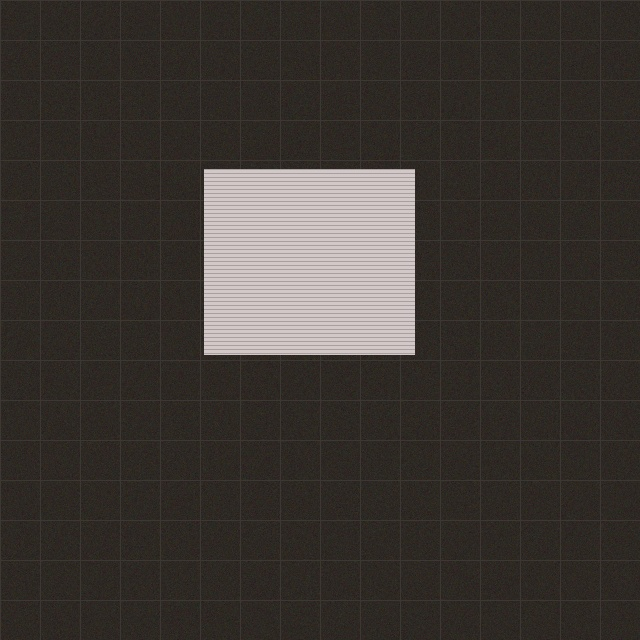normal: (204, 169, 414, 354)
